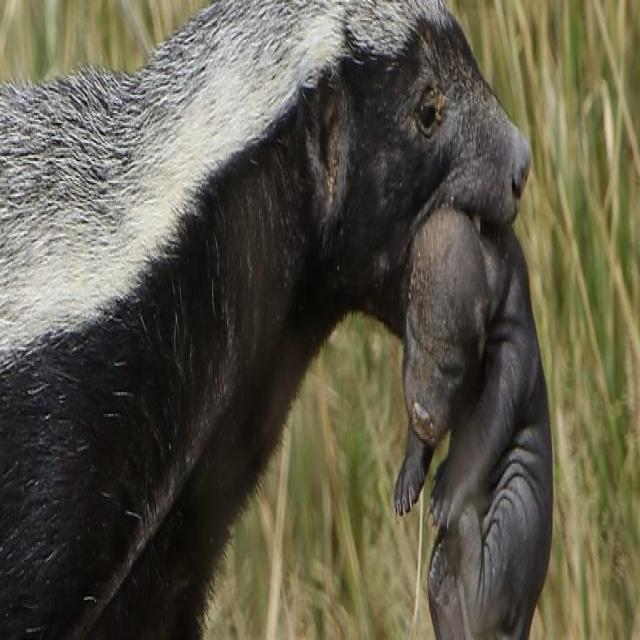Badger: (0, 0, 551, 638), (394, 173, 556, 640)
